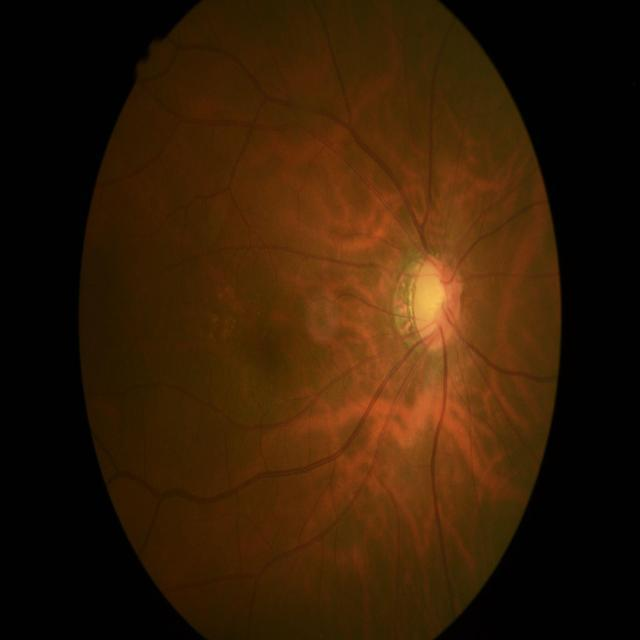cup: (417, 264, 449, 342)
disk: (414, 256, 462, 350)
